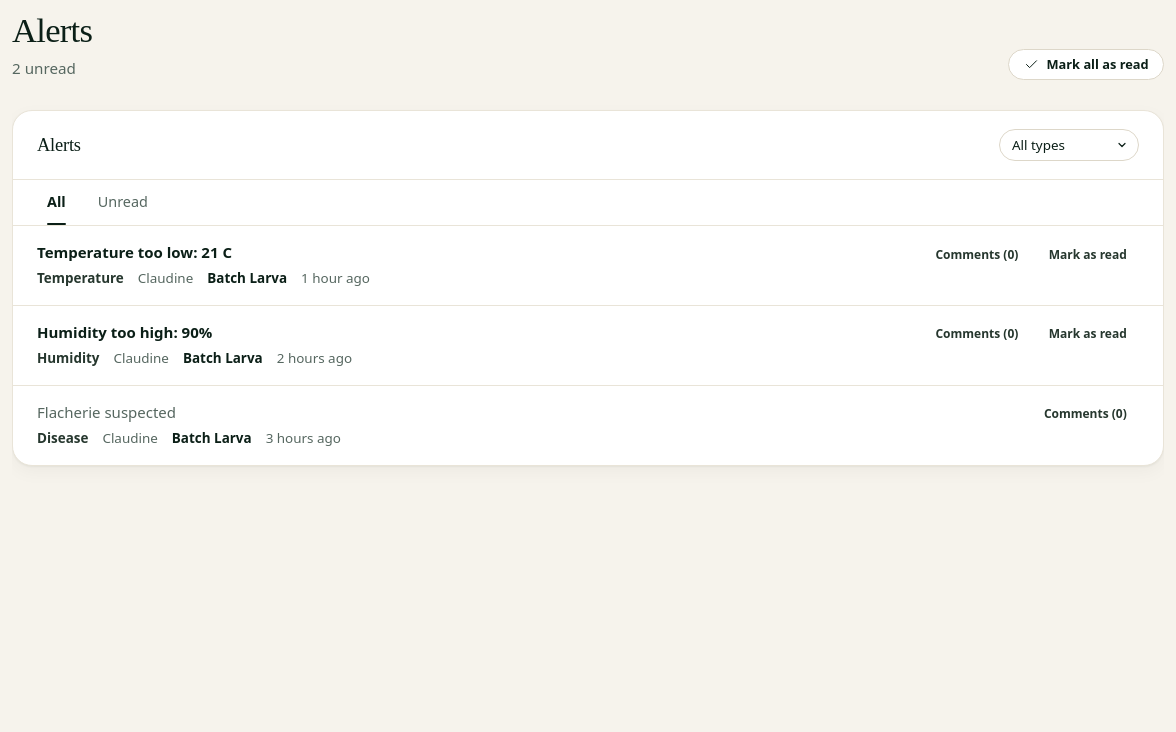
Scenario: Alerts page › offers Undo after marking one alert read, and brings the button back
Click the button "Mark as read" in the row of "Humidity too high: 90%". click: (1088, 335)
box: [1037,322,1139,347]
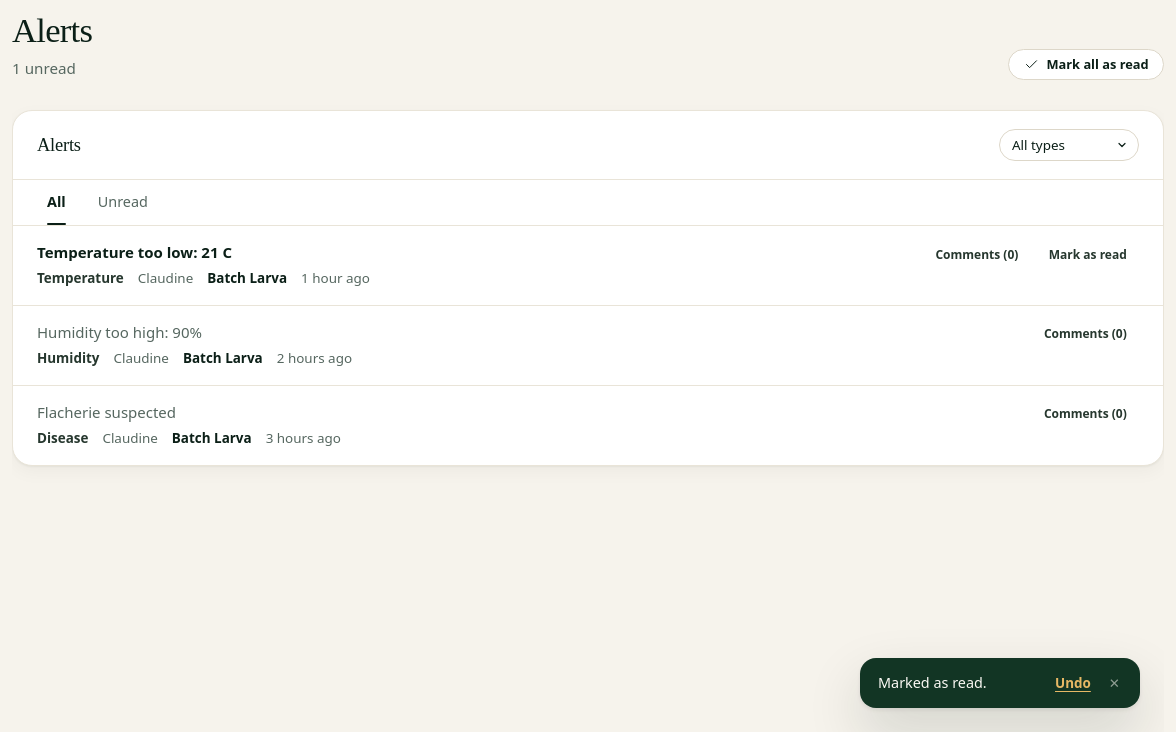
Check: the text "Marked as read." is shown, box [878,673,987,692]
Click the button "Undo". click: (1073, 683)
box: [1051,672,1095,694]
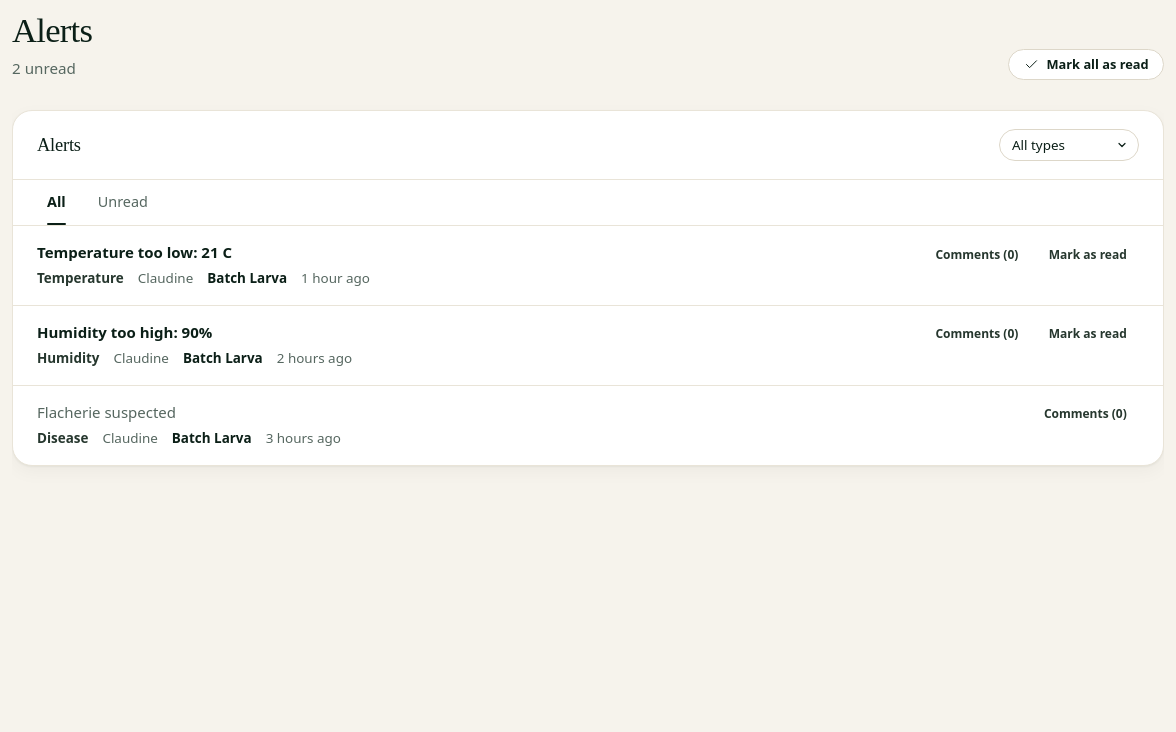
Check: the button "Mark as read" in the row of "Humidity too high: 90%" is shown, box [1037,322,1139,347]
Check: the text "2 unread" is shown, box [12,58,76,78]
